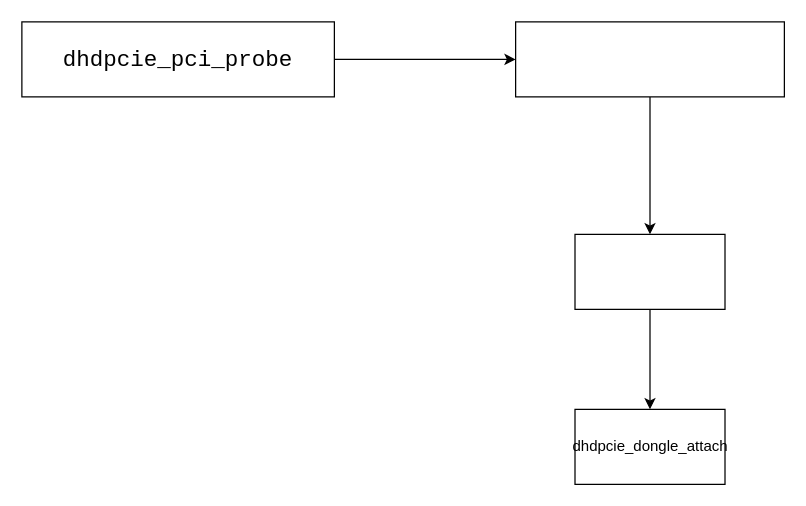
Some shapes in this 806 by 506 pixel diagram are drawn without their labels. The shapes that lost their labels are listed below. From the top down, each one's centre as x and y in pixels, then its label:
the point at 649,59: dhdpcie_init
the point at 649,271: dhdpcie_bus_attach
